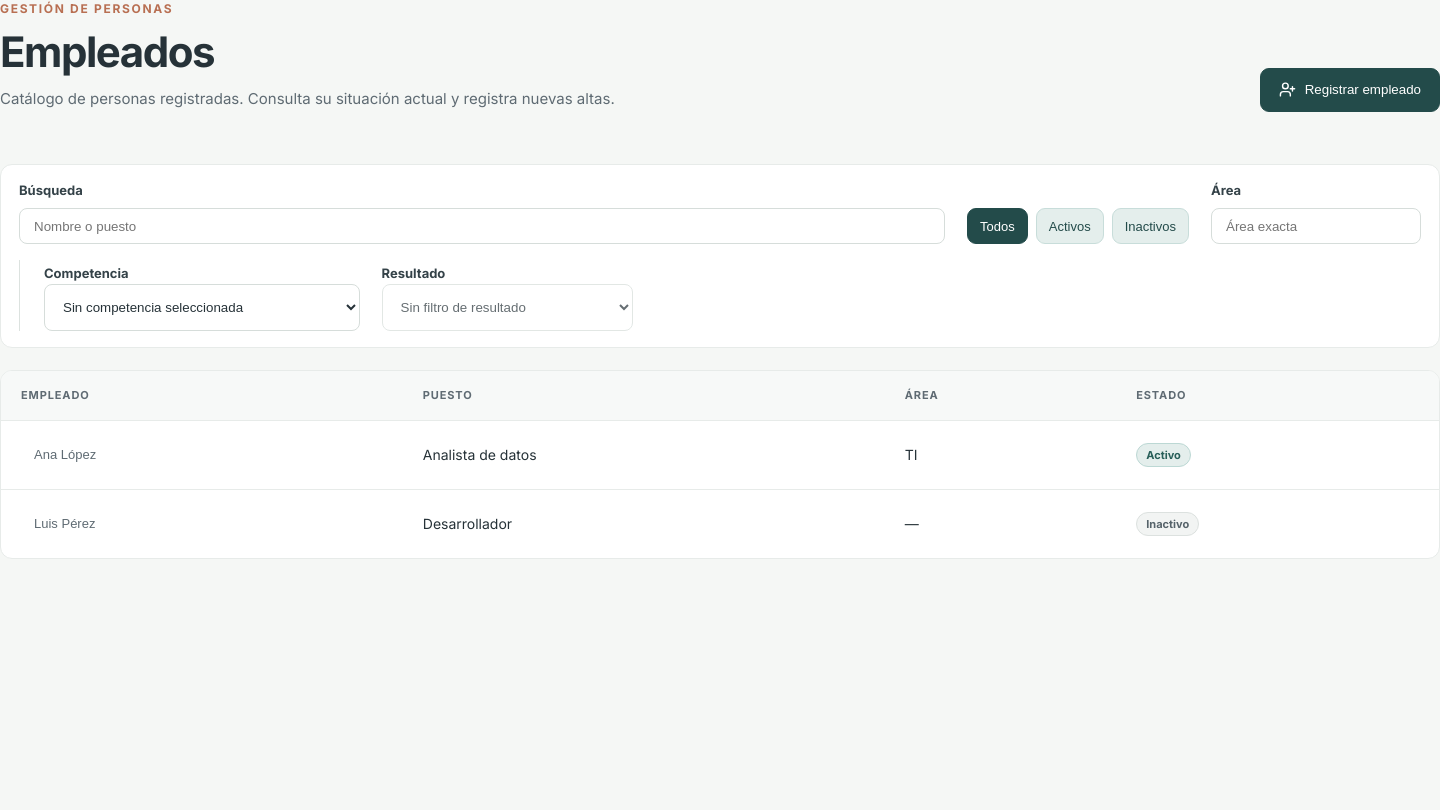
Scenario: Empleados — acceso al perfil individual › abre el perfil desde una fila con una sola consulta
Click the button "Ana López".
click(65, 455)  # box [21, 437, 109, 473]
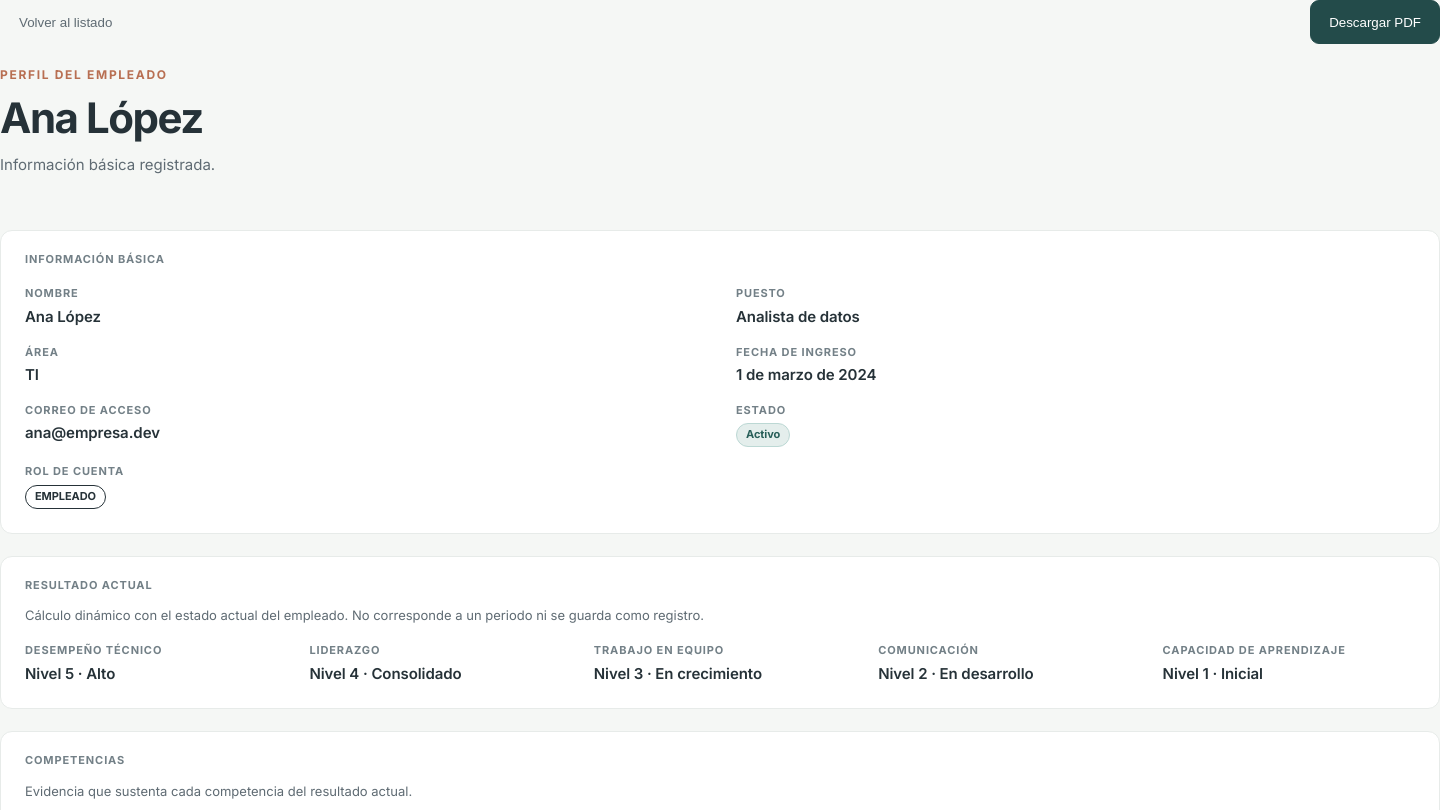
Expected: the heading "Información básica" is shown, [25, 252, 165, 266]
Expected: the text "ana@empresa.dev" is shown, [25, 423, 160, 442]
